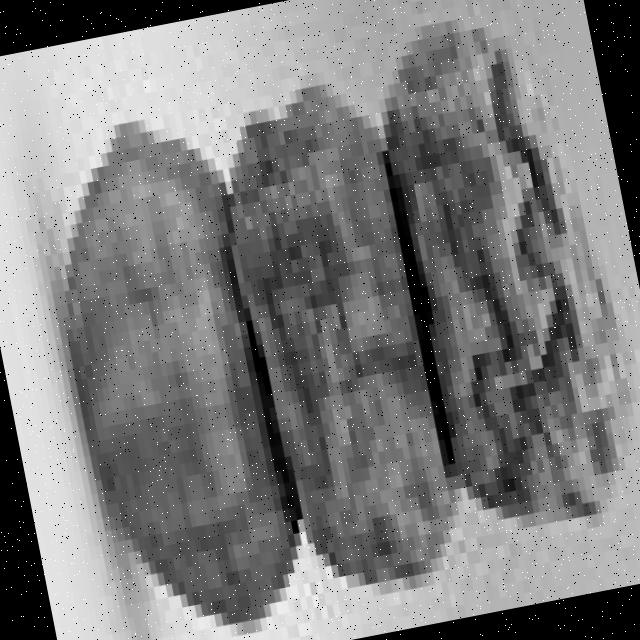overripe: (365, 0, 640, 571), (31, 95, 316, 640), (206, 60, 472, 603)
